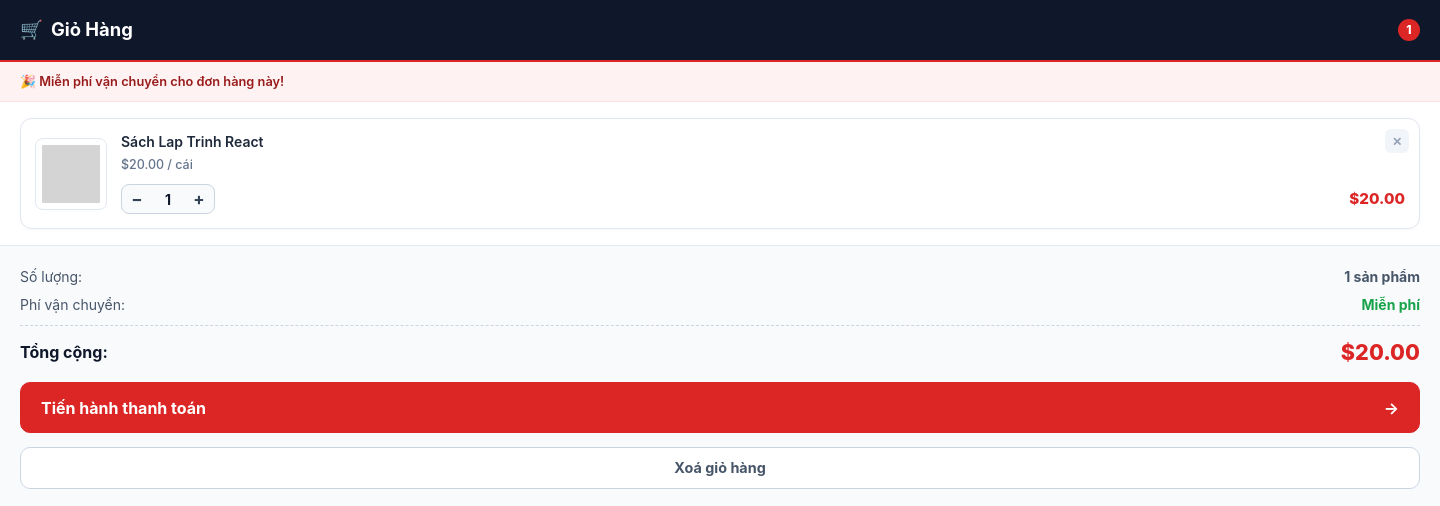
Scenario: CartPanel Component (Integration Tests with RTL) › 23. Xoa san pham khi nhan nut ✕
Click the button named "Xoá Sách Lap Trinh React khỏi giỏ" at [1397, 141], box [1385,129,1409,153]
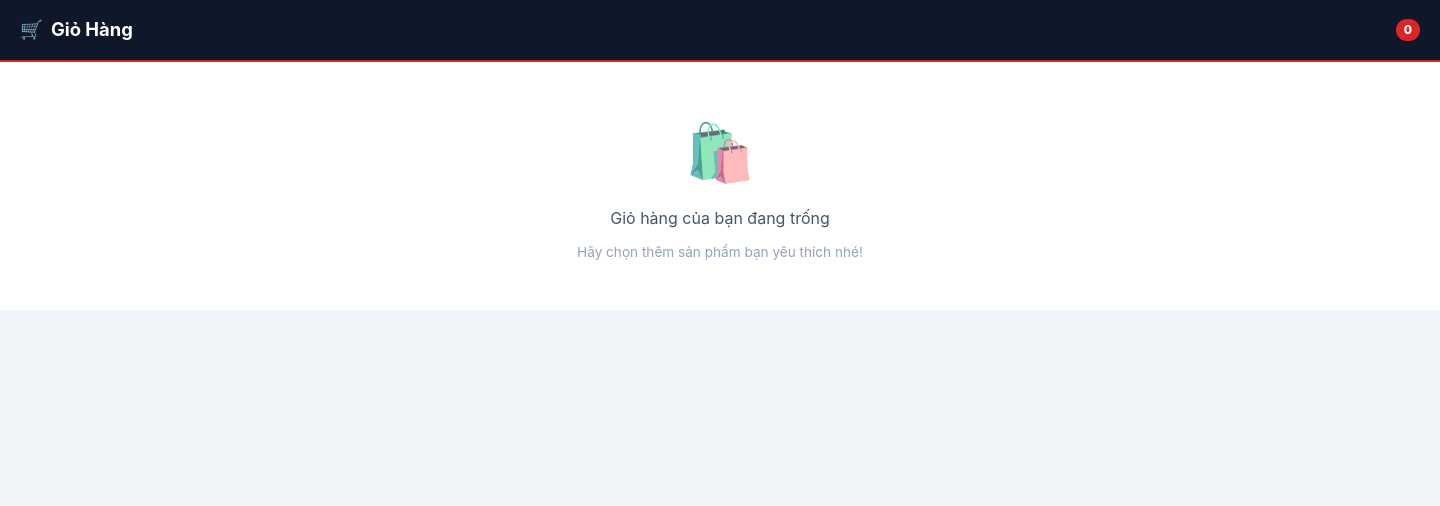
Expected: the text "Giỏ hàng của bạn đang trống" is shown, [610,206,830,230]
